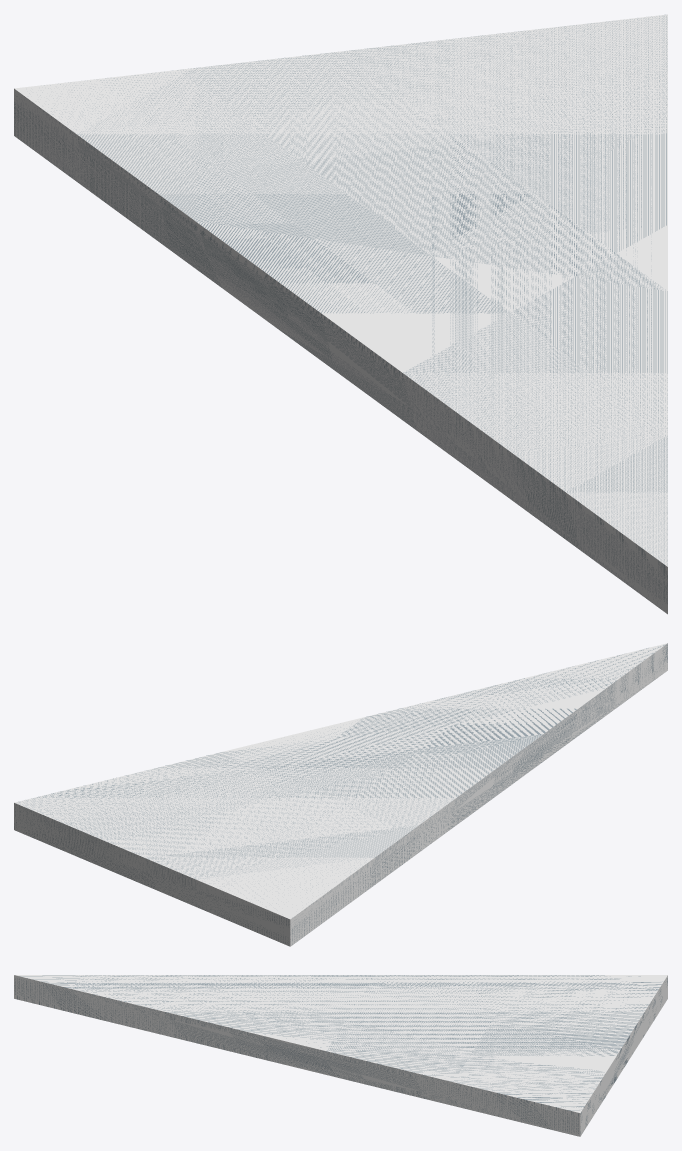
The model's file is triangle 30 deg.fbx.
The picture shows the model from 3 angles, top to bottom: view 1: azimuth 30°, elevation 25°; view 2: azimuth 150°, elevation 25°; view 3: azimuth 270°, elevation 25°; orthographic projection. The views are drawn at different scales.
Visible parts, largest first — view 1: Model; view 2: Model; view 3: Model.
Boxes of the visible parts, box(x1,y1,x2,y2) form: Model: box(14, 14, 667, 614); Model: box(14, 643, 667, 946); Model: box(14, 975, 667, 1136).
Bounding box in the file's own units: 2.5 × 0.2 × 5.
